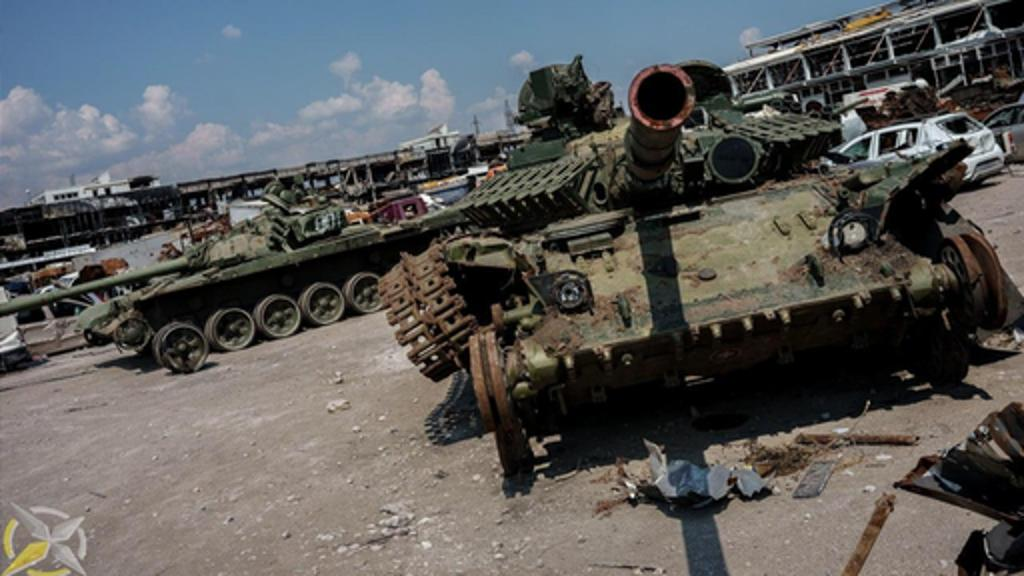CAR: (822, 104, 1006, 194)
TANK: (454, 60, 1010, 458), (6, 182, 434, 382)
